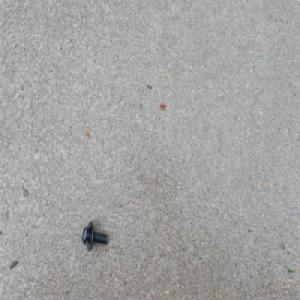BoltWasher: (81, 219, 108, 250)
